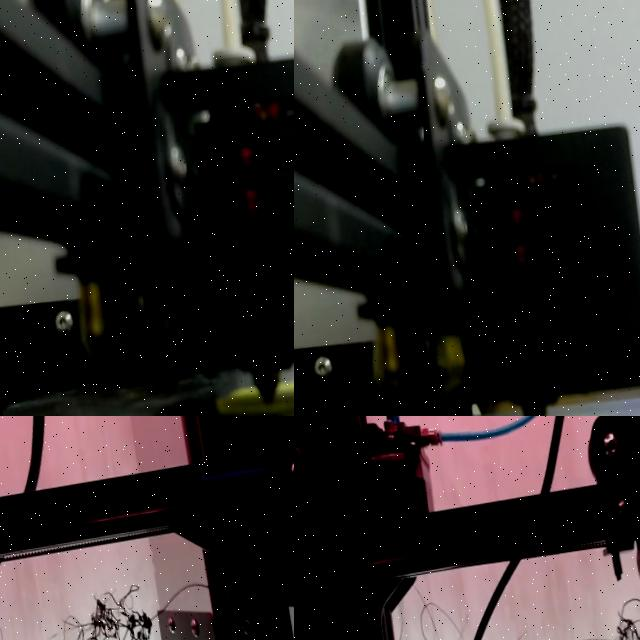spaghetti: (368, 552, 640, 640), (0, 578, 193, 640)
